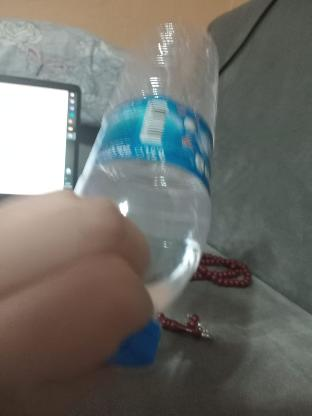Plastic Bottle: (72, 18, 234, 358)
